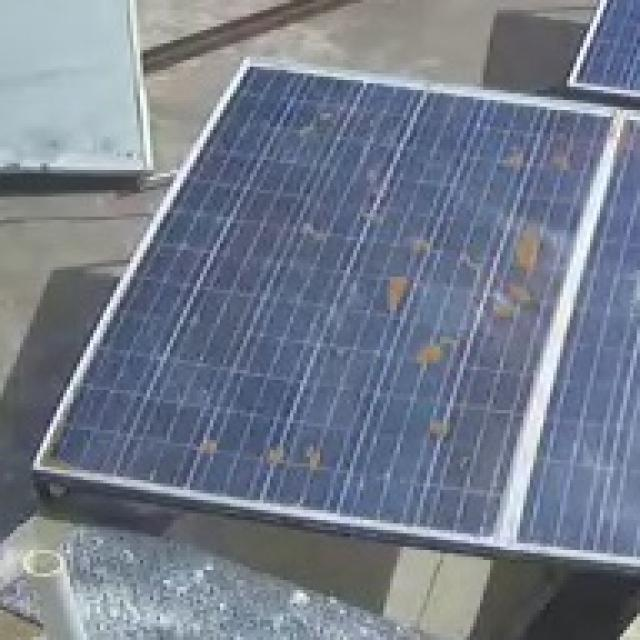Anomaly Solar Panel: (31, 57, 615, 544)
Surface Contaminant: (401, 230, 488, 273), (504, 211, 548, 279), (496, 149, 581, 181), (358, 171, 394, 240), (483, 284, 538, 329), (264, 437, 324, 475), (285, 108, 345, 143), (379, 273, 415, 322), (412, 340, 467, 368), (291, 208, 319, 244), (421, 418, 459, 440), (194, 434, 223, 461)
